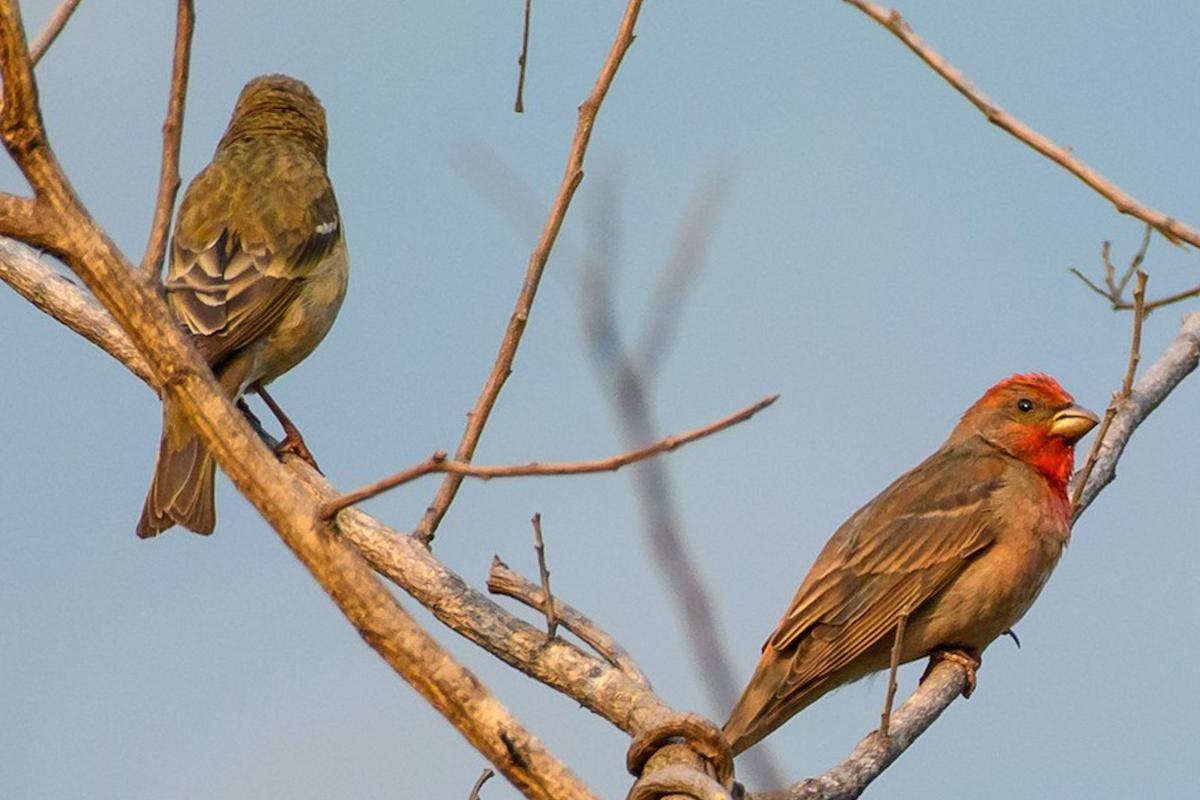rosefinch: (740, 354, 1105, 723)
